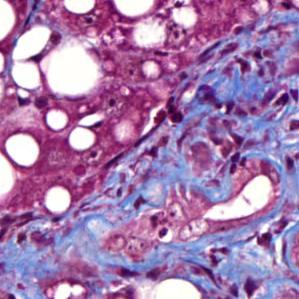steatosis: (5, 132, 49, 172), (65, 125, 99, 154)
